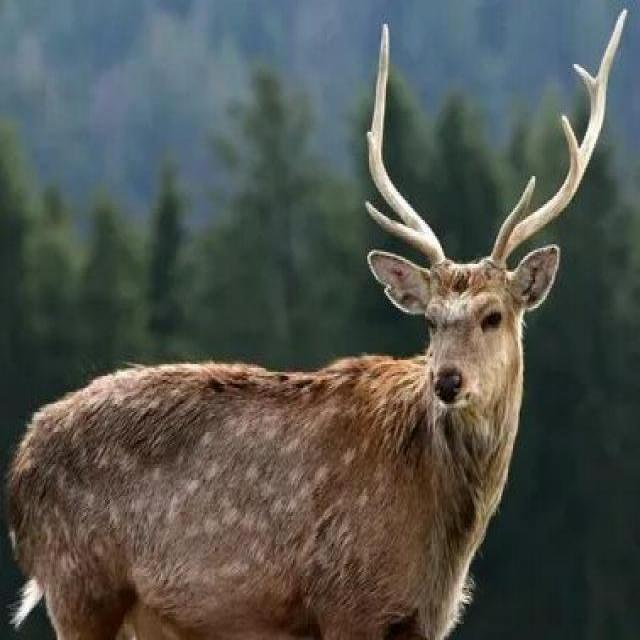deer: (0, 38, 626, 640)
